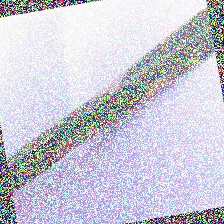Leaf_Blast: (130, 54, 209, 107), (45, 114, 118, 160), (74, 61, 132, 104)
